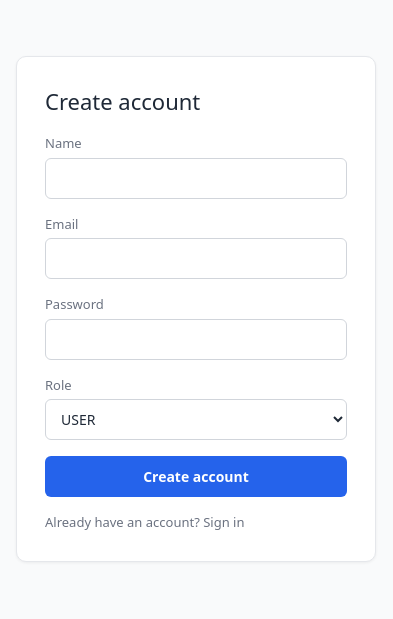
RegisterPage › shows the Bank field only when BANKER role is selected
Expected: the text "Bank" is not shown
Select "BANKER" in the dropdown. click: (196, 420)
box: [45,399,347,440]
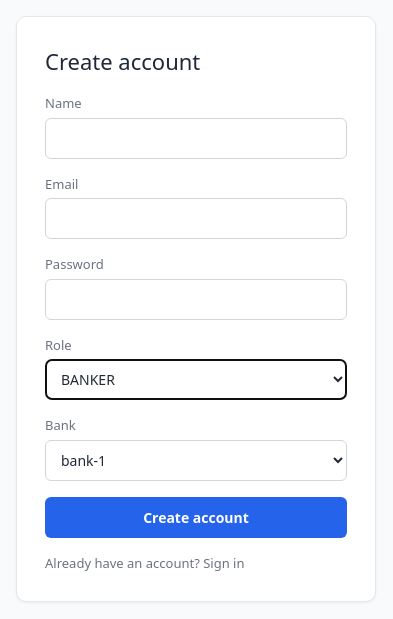
Now the text "Bank" is shown, box [45,416,76,434]
